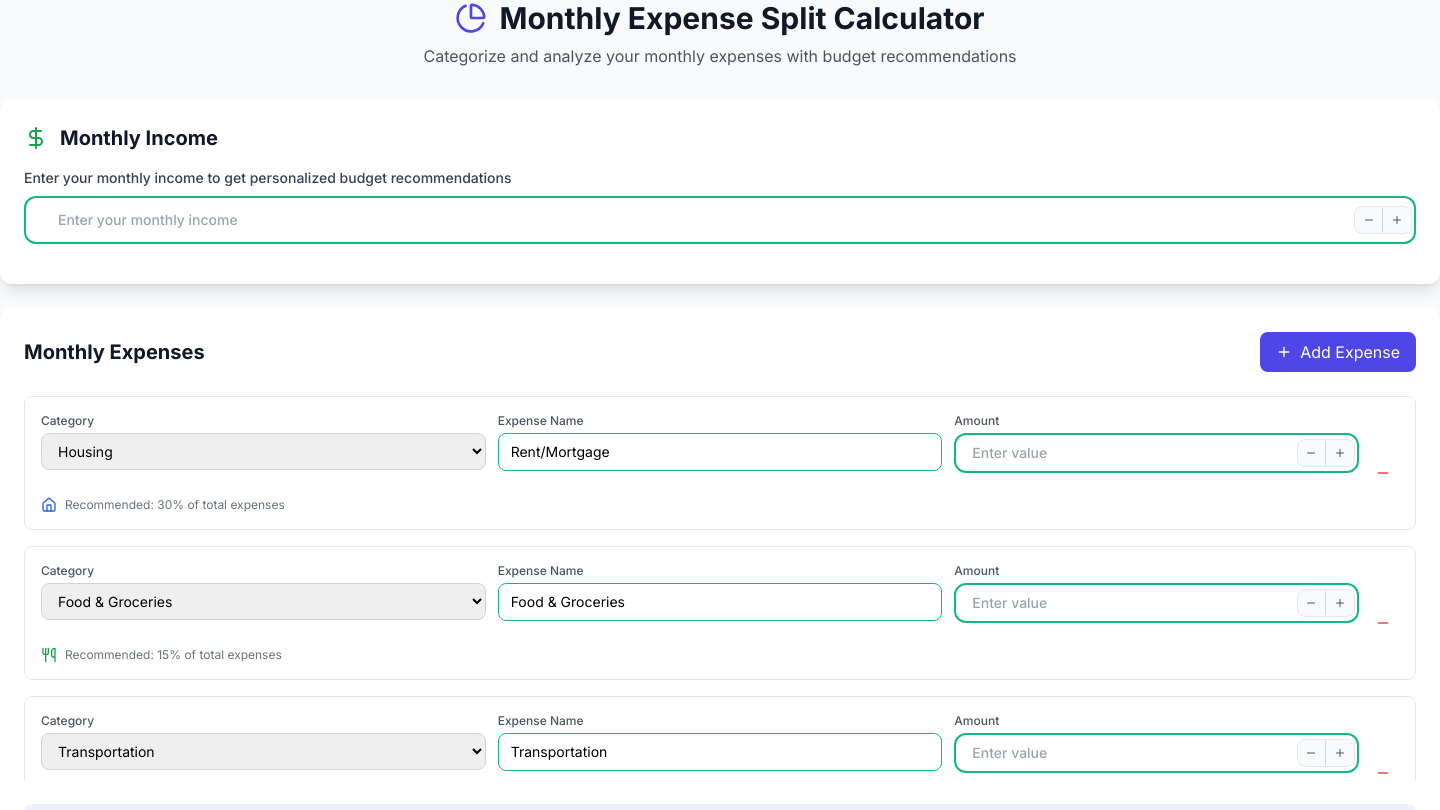
Test case: MonthlyExpenseCalculator - Comprehensive Recursive Test Suite › 💰 Income Input Functionality › should handle valid income input
The image size is (1440, 810).
Type "5000" into the field with placeholder "Enter your monthly income". click: [720, 220]
box: [24,196,1416,244]
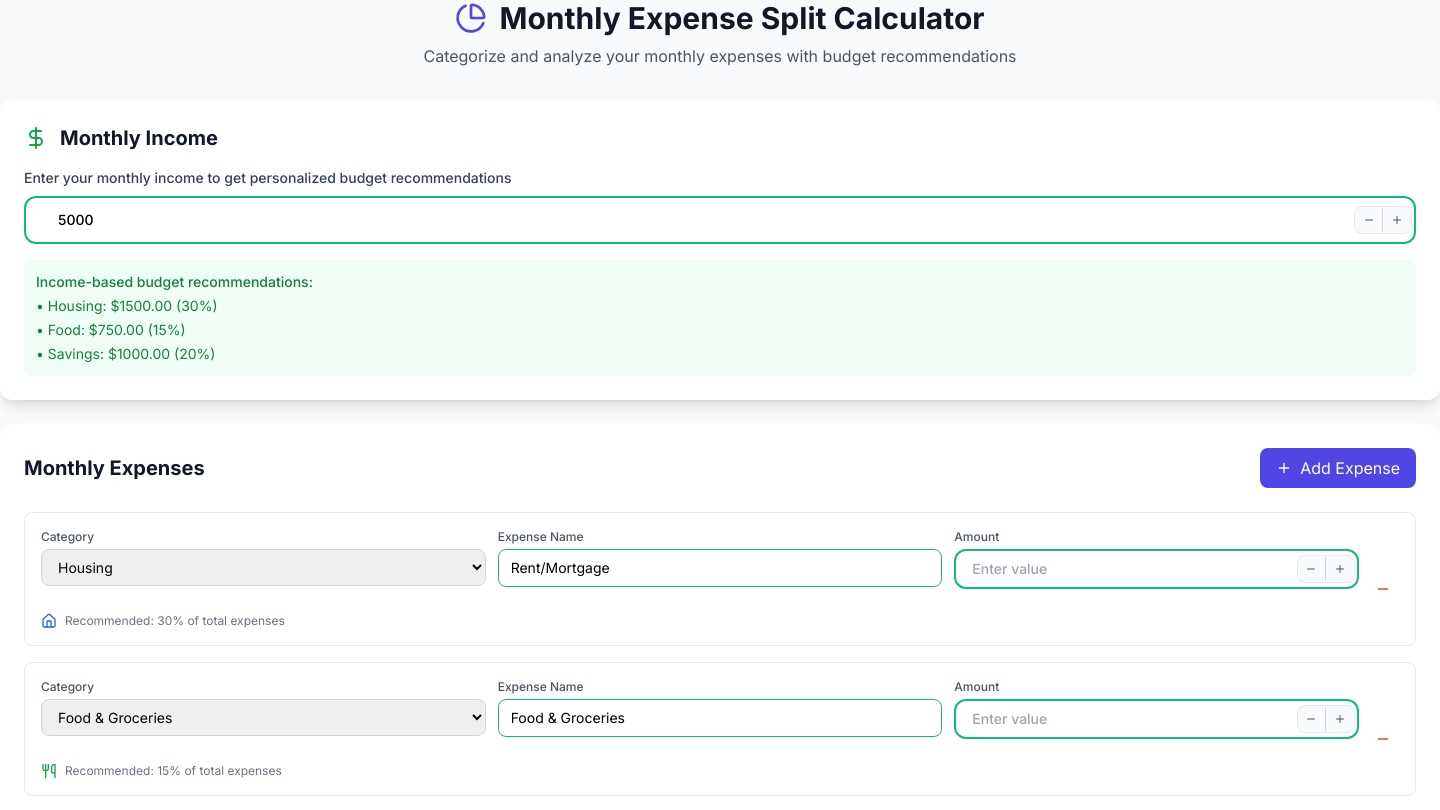
Expected: the text "Income-based budget recommendations:" is shown, [36,273,313,290]
